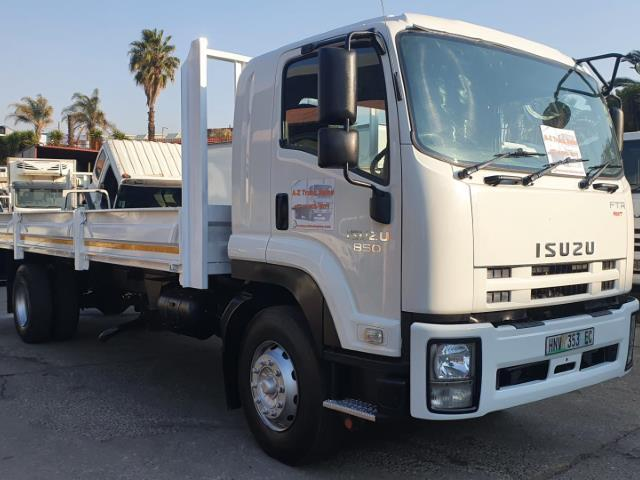truck: (1, 13, 640, 465)
